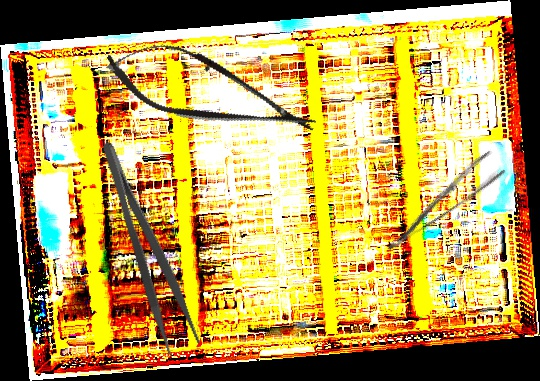Dressing Forceps: (96, 132, 203, 359), (372, 148, 508, 255)
Micro Scissor: (96, 25, 326, 158)
